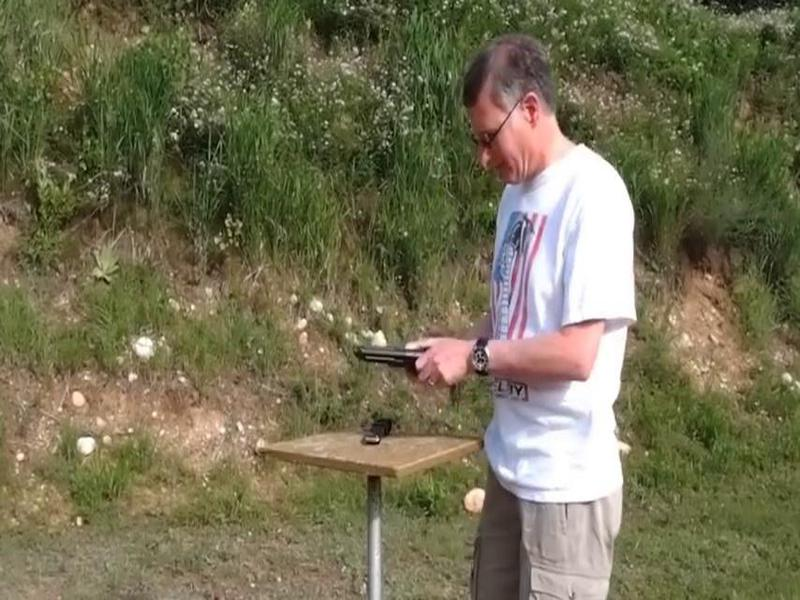Pistola: (344, 318, 452, 414)
